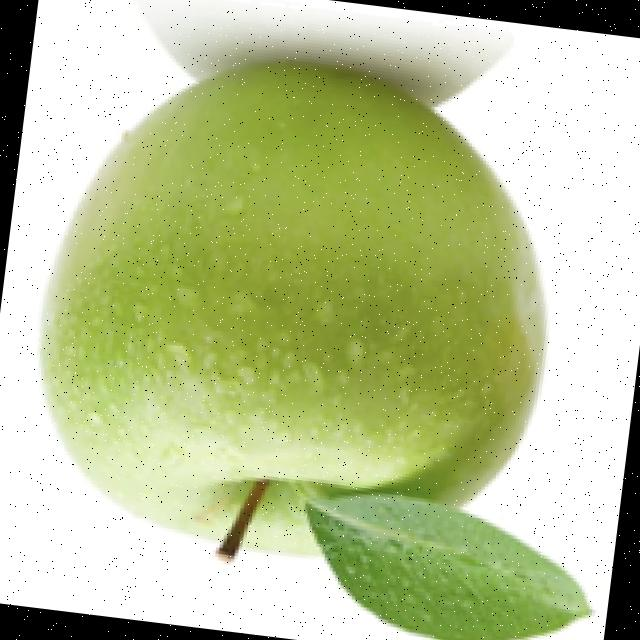apple: (35, 0, 600, 640)
